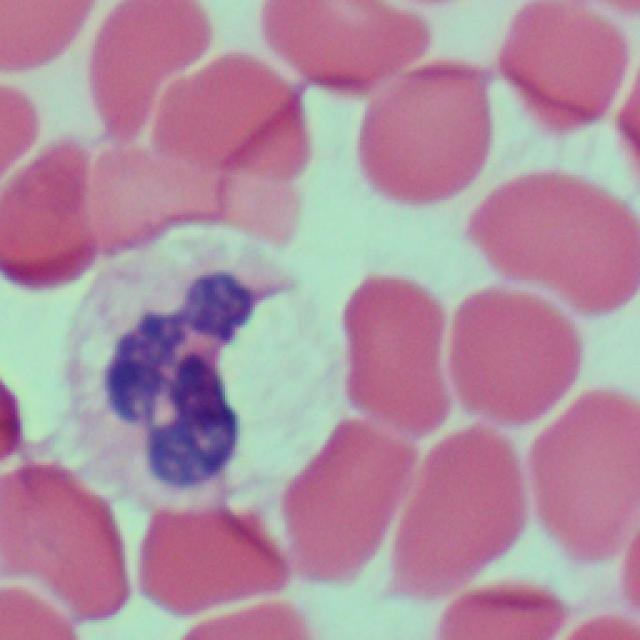RBC: (457, 160, 640, 315), (258, 416, 406, 588), (347, 46, 485, 208), (0, 459, 130, 627), (446, 270, 580, 430), (523, 382, 638, 568), (339, 264, 453, 444), (154, 60, 309, 190), (495, 0, 627, 143), (396, 414, 521, 563), (83, 1, 209, 137), (268, 0, 427, 101), (0, 139, 101, 298), (137, 521, 286, 602), (430, 581, 573, 640), (0, 0, 95, 72)
WBC: (83, 256, 282, 496)
